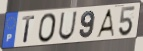5: (118, 5, 137, 38)
9: (78, 9, 96, 40)
A: (95, 8, 115, 39)
O: (37, 12, 58, 44)
T: (22, 15, 36, 44)
U: (57, 11, 78, 41)
